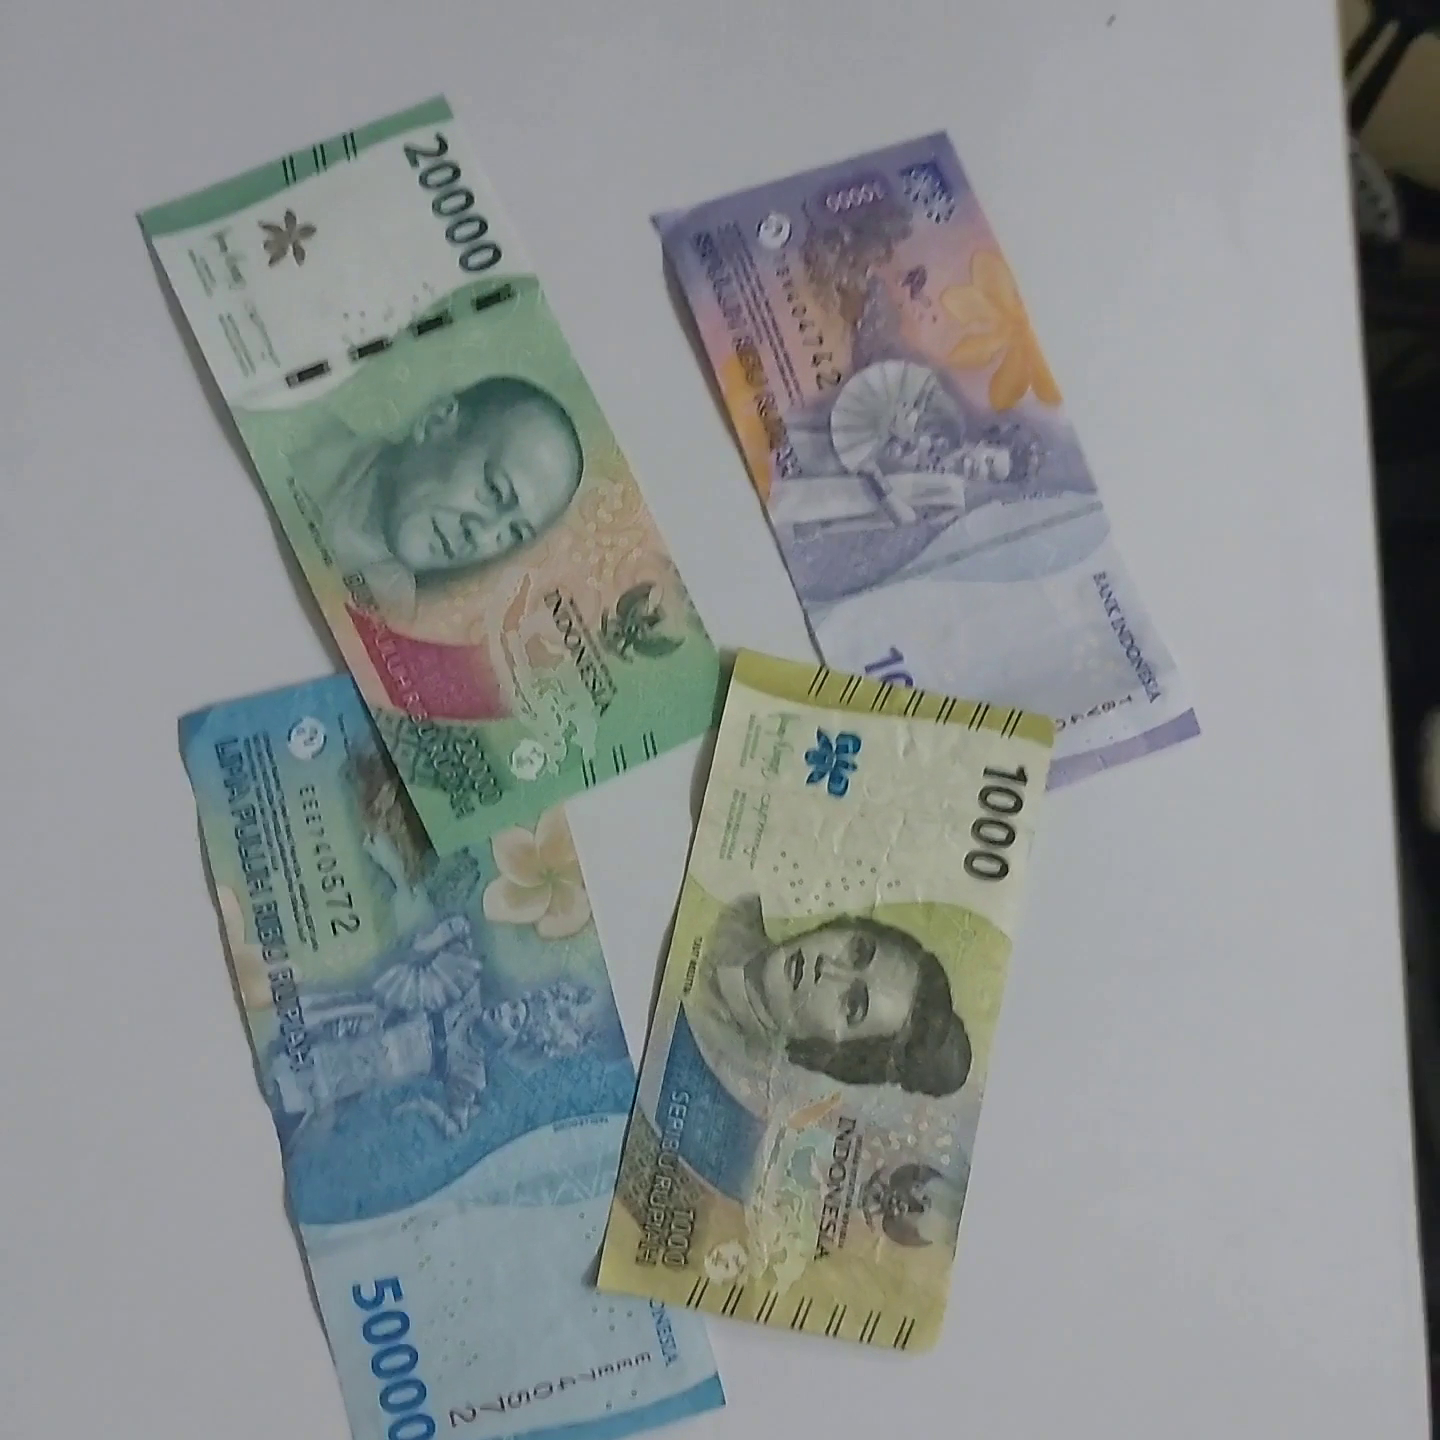10k: (674, 128, 1242, 864), (738, 649, 1084, 1304)
20k: (138, 94, 736, 848)
50k: (131, 618, 736, 1440)
